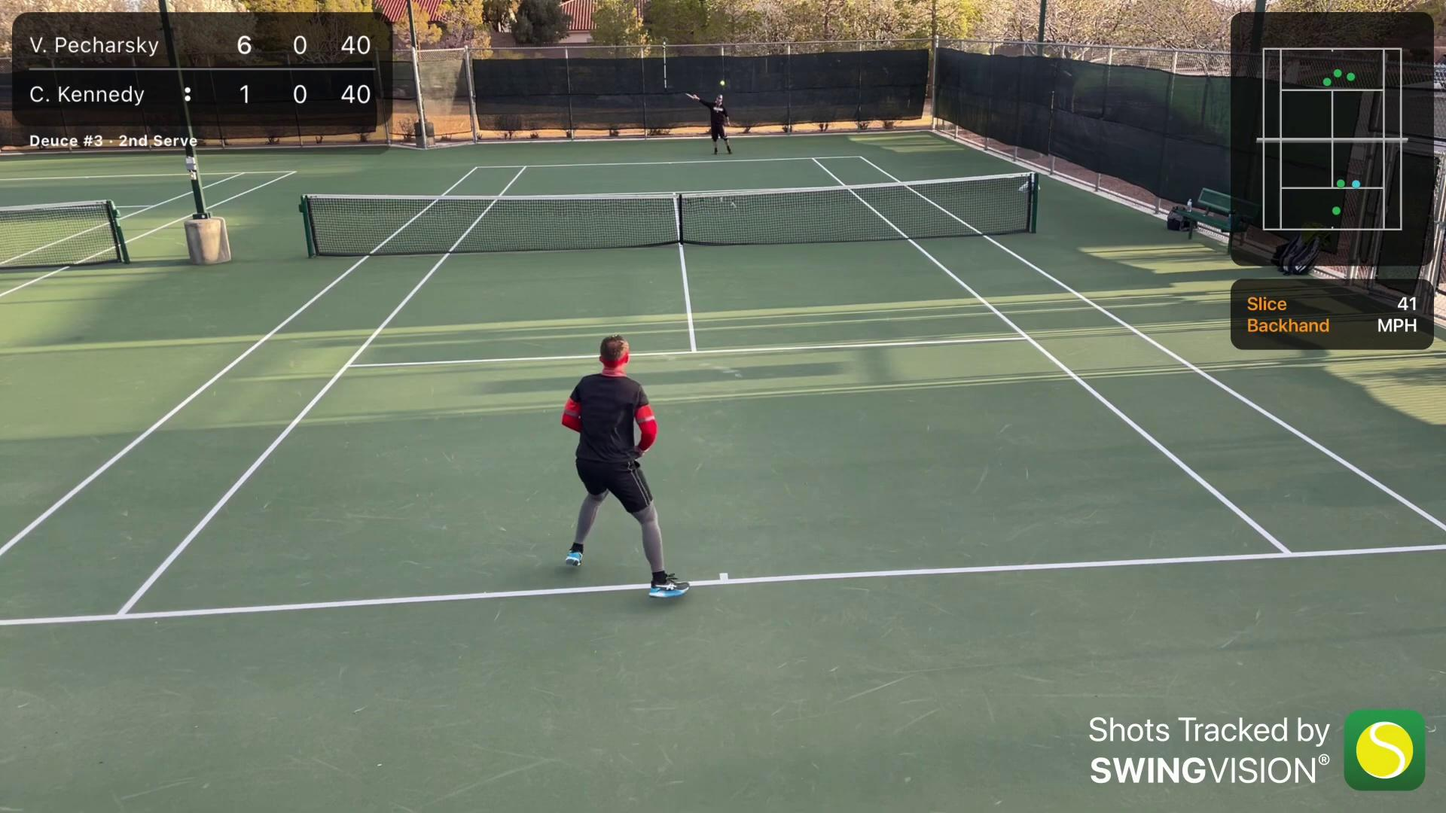ball: (719, 79, 727, 86)
